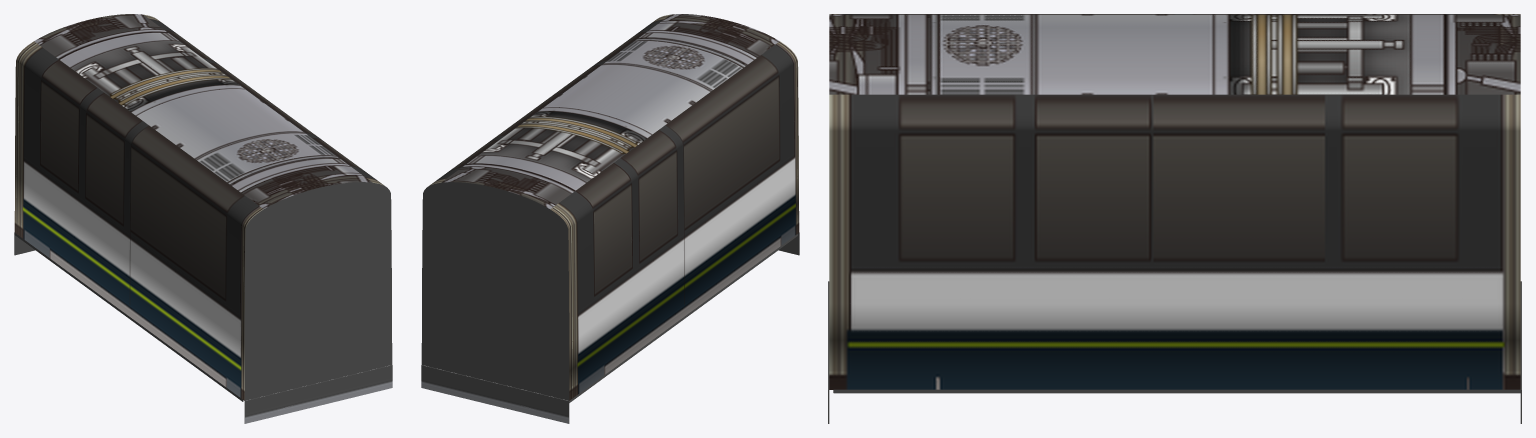
Rendered from car2.glb.
3 renders of one model, left to right at view 1: azimuth 30°, elevation 25°; view 2: azimuth 150°, elevation 25°; view 3: azimuth 270°, elevation 25°, orthographic. The views are drawn at different scales.
Parts seen in each view (by area): view 1: hiroden-1000-car2; view 2: hiroden-1000-car2; view 3: hiroden-1000-car2.
Part boxes in pixels (left/top/right/bottom): hiroden-1000-car2: left=14, top=14, right=392, bottom=423; hiroden-1000-car2: left=421, top=14, right=799, bottom=423; hiroden-1000-car2: left=828, top=14, right=1521, bottom=423.
Size of the model in its own units: 2.45 by 3.45 by 6.63.
Materials: 9 (8 with a texture image).
